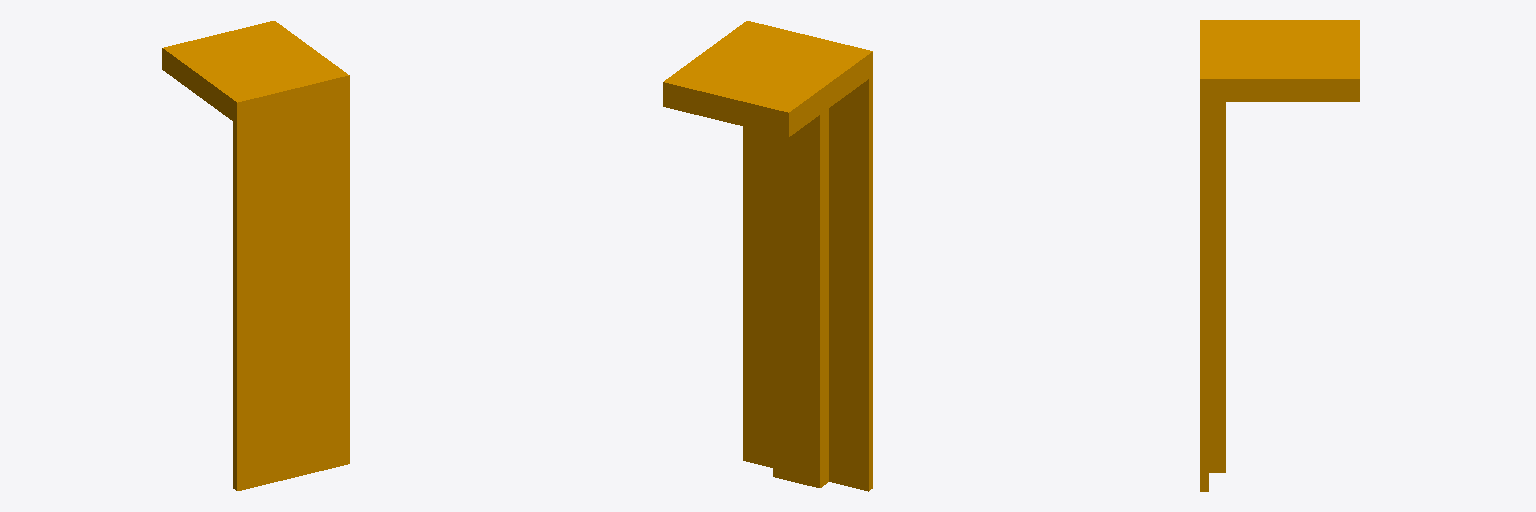
URDF robot description (pallet):
<?xml version="1.0"?>
<robot name="pallet">
 
    <link name="base_link">
        <visual>   <geometry> <mesh filename="desk.dae"/> </geometry> </visual>
        <collision><geometry> <mesh filename="desk.dae"/> </geometry> </collision>

        <inertial>
            <origin xyz="0 0 0" rpy="0 0 0"/>
            <mass value="5.0"/>
            <inertia ixx="1.0" ixy="0.0" ixz="0.0" iyy="1.0" iyz="0.0" izz="0.5"/>
        </inertial>

 </link>
 
</robot>

--- Facts derived from the render (not from the file) ---
The picture shows the robot from 3 angles, left to right: view 1: azimuth 30°, elevation 25°; view 2: azimuth 150°, elevation 25°; view 3: azimuth 270°, elevation 25°; orthographic projection.
Robot: pallet — 1 links, 0 joints (none); root link base_link; default pose: all joints at 0.
Links seen in each view (by area): view 1: base_link; view 2: base_link; view 3: base_link.
Boxes of the visible links, x1=… form: base_link: x1=162, y1=21, x2=349, y2=490; base_link: x1=663, y1=21, x2=872, y2=491; base_link: x1=1200, y1=20, x2=1359, y2=491.
Size in the robot's own frame: 0.8 by 0.925 by 2.65 metres.
1 mesh visuals loaded from 1 distinct referenced files (1 Collada DAE).
